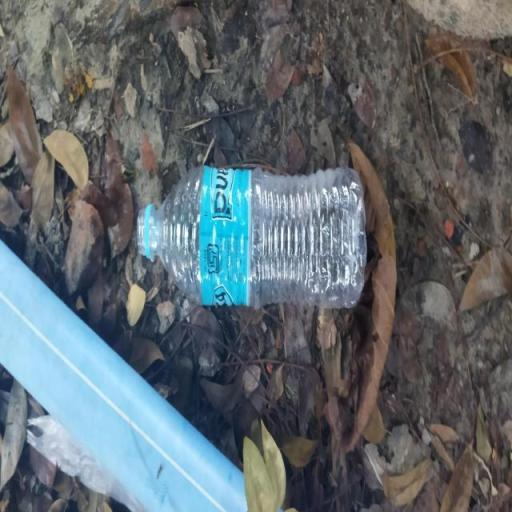plastic: (134, 162, 368, 310)
